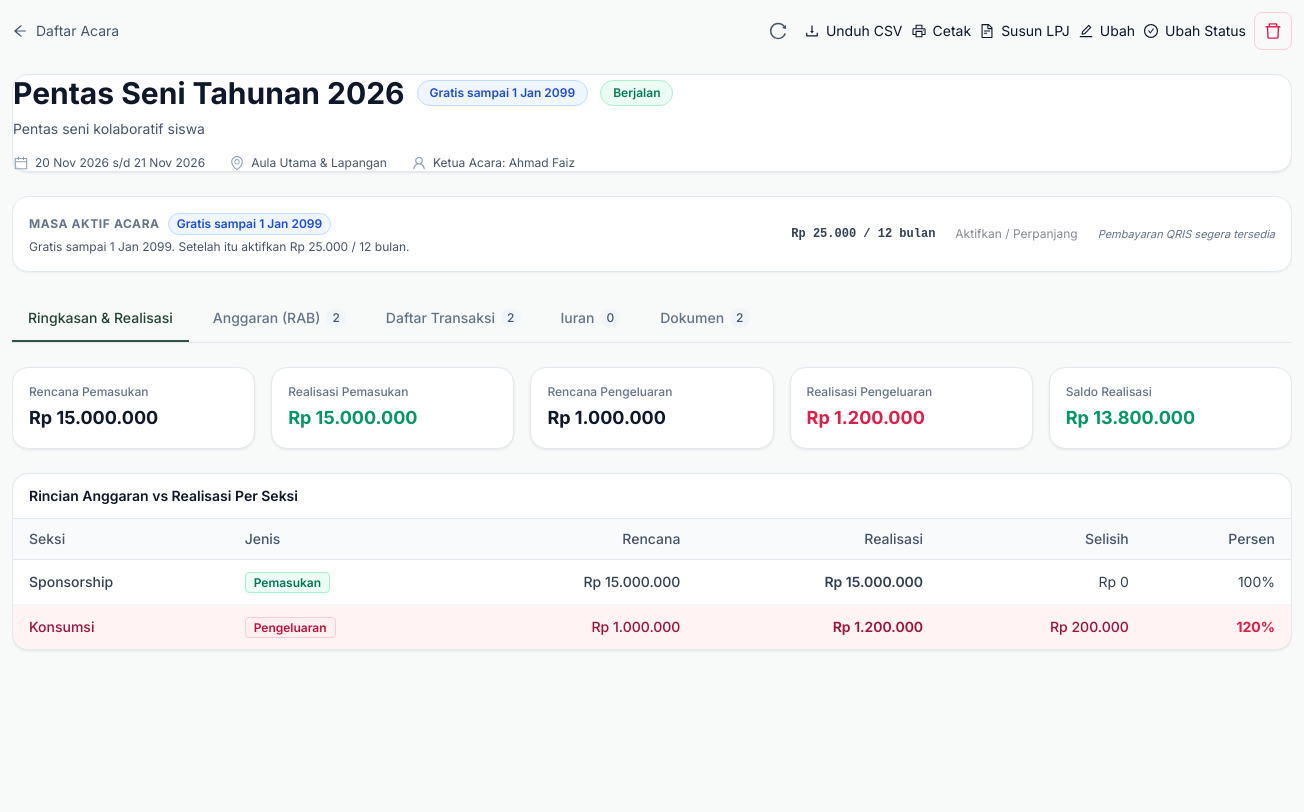
Test: PANITIA-1.7: ProgramDetail Page › PANITIA-2.3: Tab Iuran di ProgramDetail › F.3: dues gagal memuat -> pemasukan tetap tampil dan alert iuran muncul
This screenshot has width=1304, height=812.
Expected: the heading "Pentas Seni Tahunan 2026" is shown, x1=13 y1=75 x2=405 y2=111
Click the button "Daftar Transaksi 2" at (453, 319), box x1=370 y1=296 x2=536 y2=342
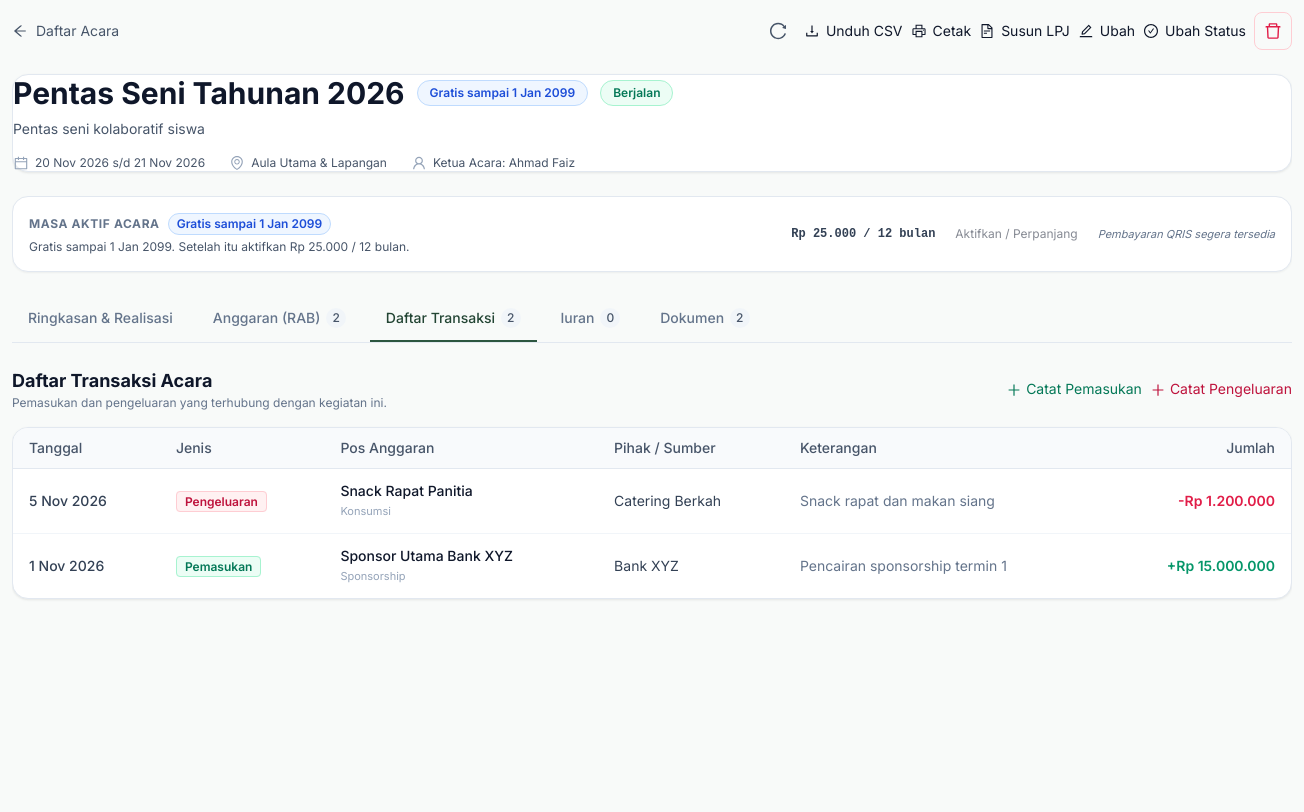
Result: the text "Pencairan sponsorship termin 1" is shown at x1=784 y1=534 x2=1104 y2=598
Click the button "Iuran 0" at (590, 319), box x1=544 y1=296 x2=636 y2=342
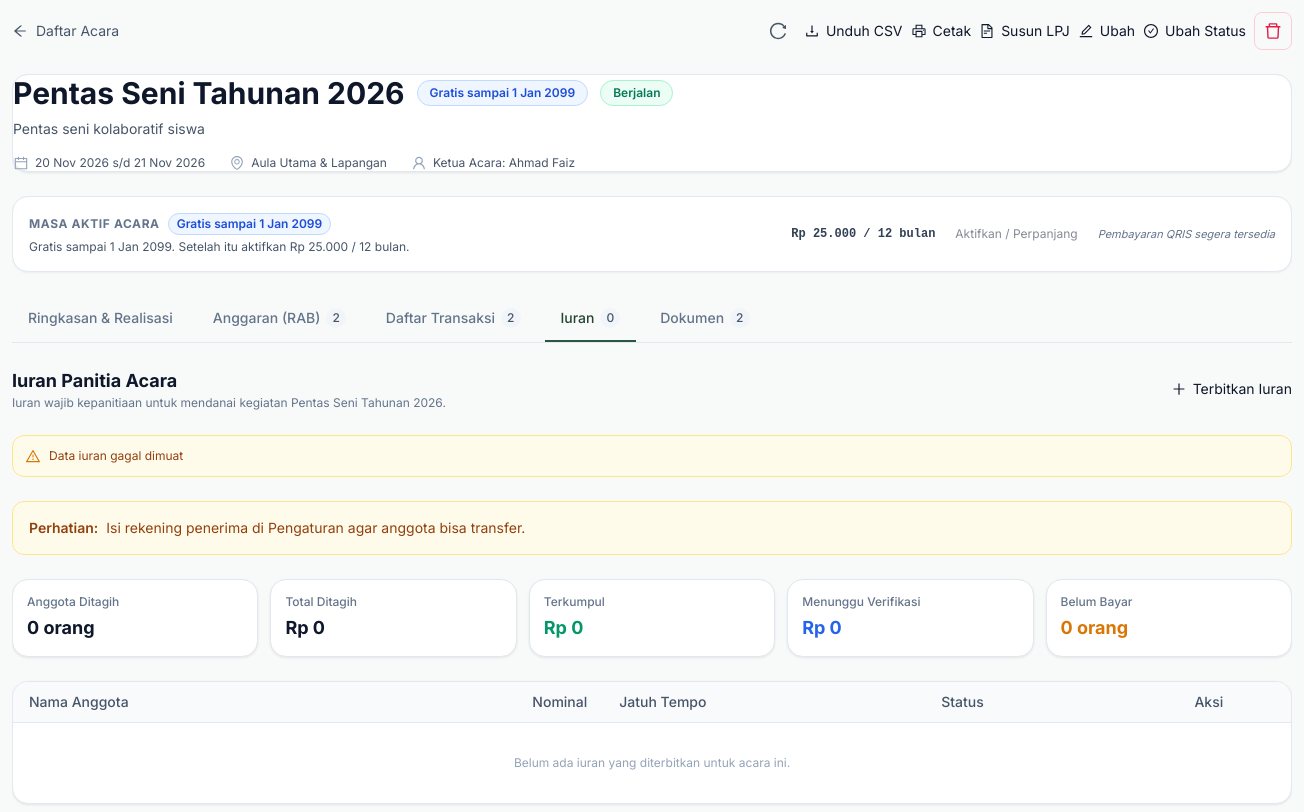
Result: the text "Data iuran gagal dimuat" is shown at x1=49 y1=448 x2=183 y2=464
